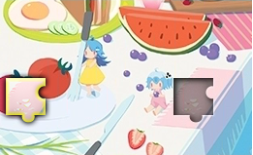gap: (173, 78, 213, 123)
